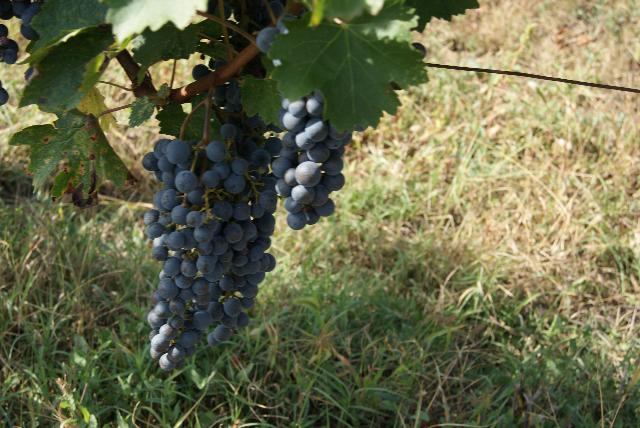grapes: (142, 139, 276, 371), (270, 89, 351, 230)
